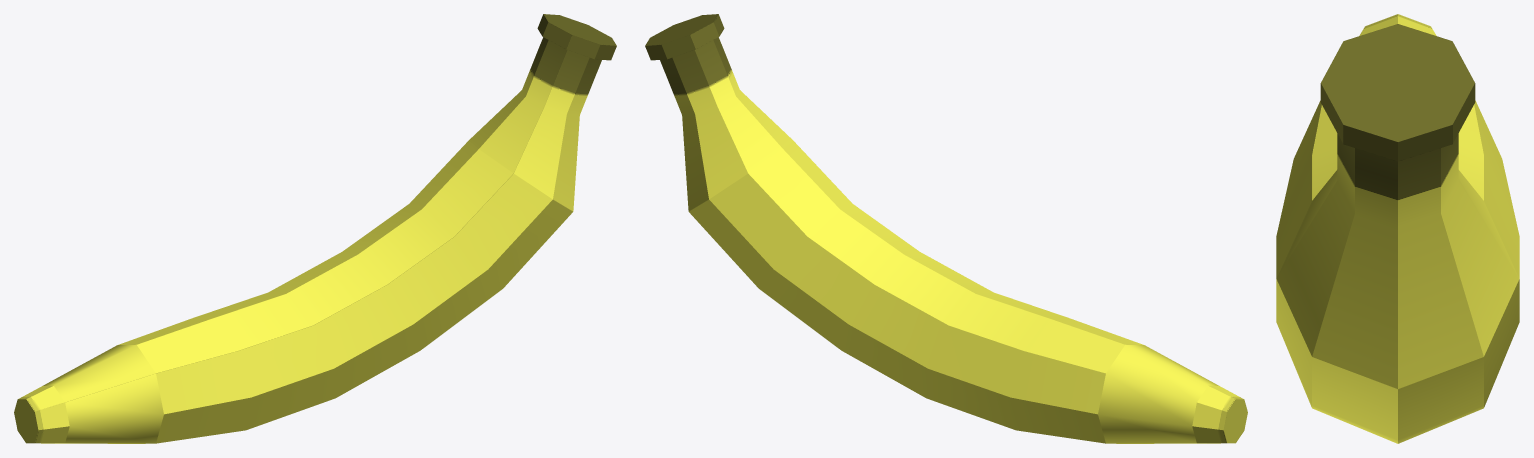
File: Potassium.fbx
The picture shows the model from 3 angles, left to right: view 1: azimuth 30°, elevation 25°; view 2: azimuth 150°, elevation 25°; view 3: azimuth 270°, elevation 25°; orthographic projection. The views are drawn at different scales.
Visible parts, largest first — view 1: Banana; view 2: Banana; view 3: Banana.
Part boxes in pixels (x1,y1,x2,y2): Banana: [14, 14, 616, 443]; Banana: [645, 14, 1247, 443]; Banana: [1276, 14, 1519, 443].
Size of the model in its own units: 1.06 by 0.5696 by 0.2.
1 material, 1 textured.
